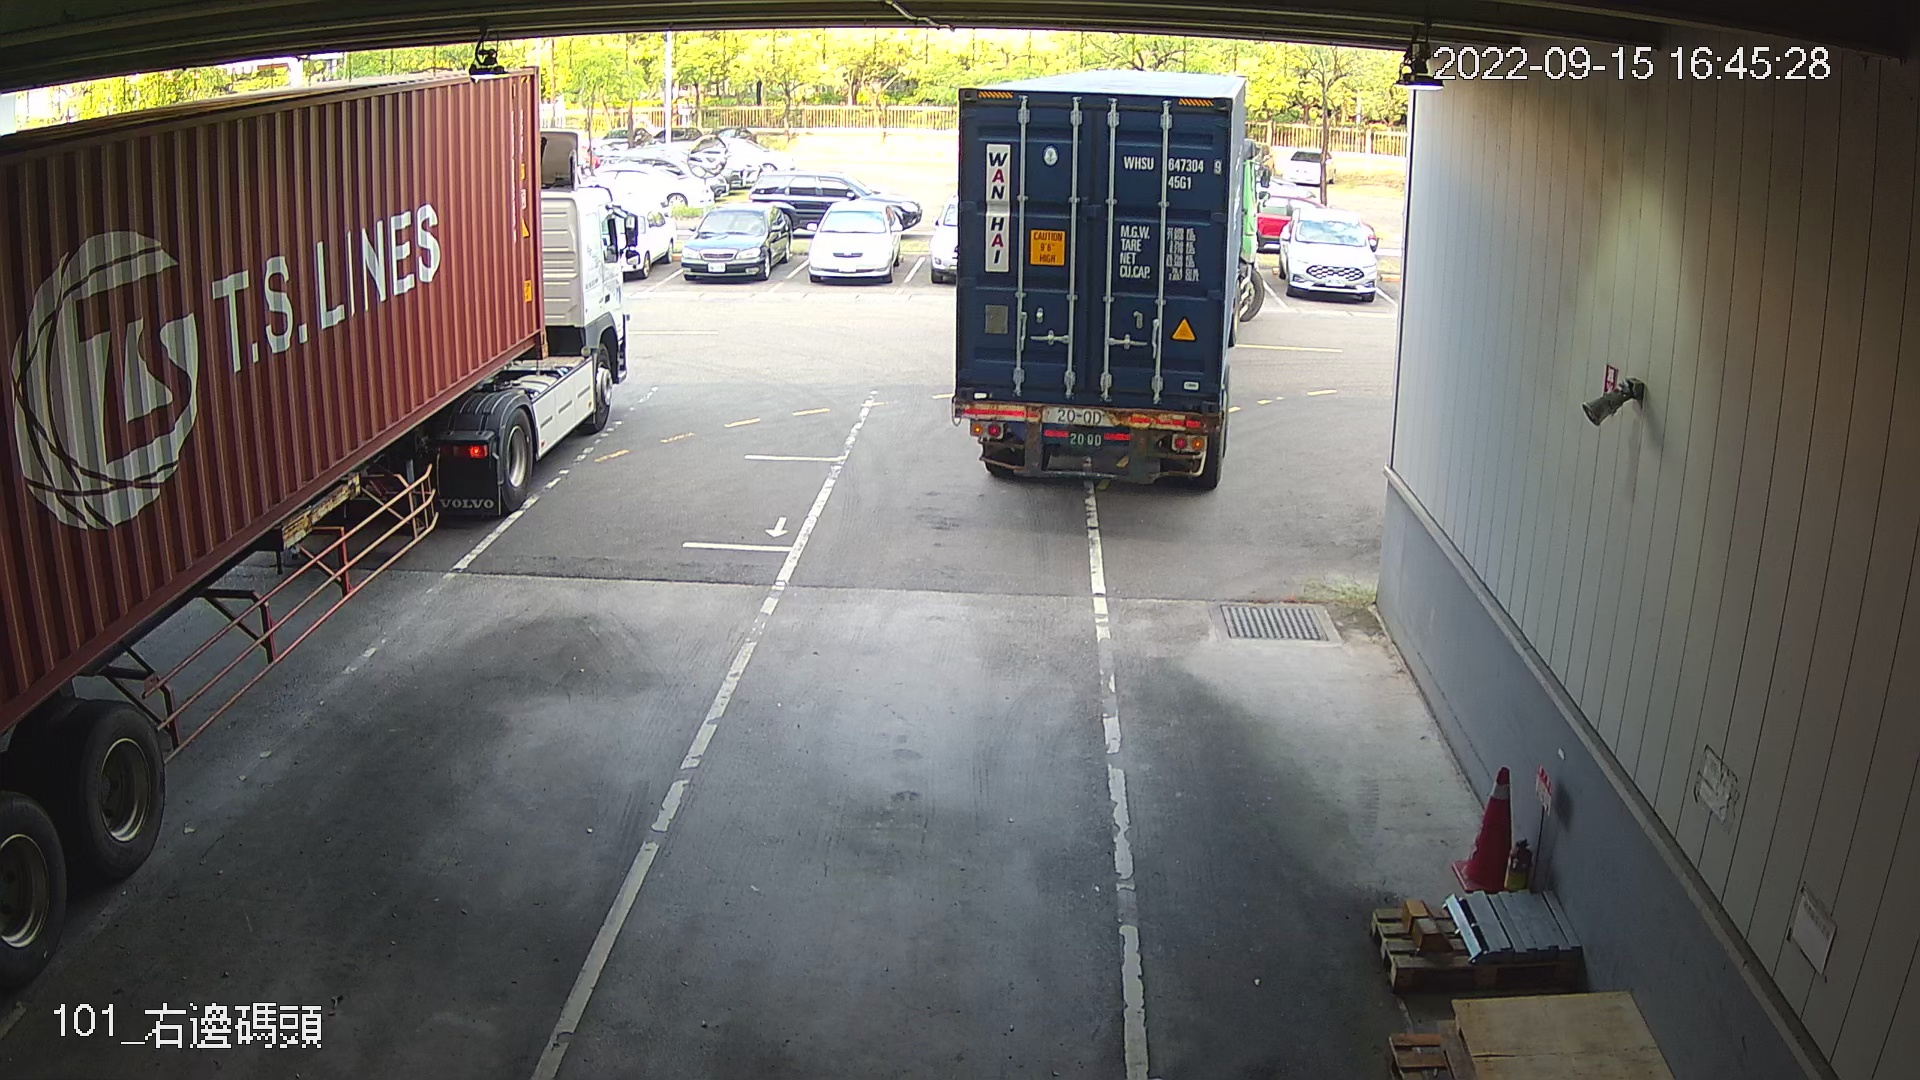container: (1120, 152, 1226, 195)
